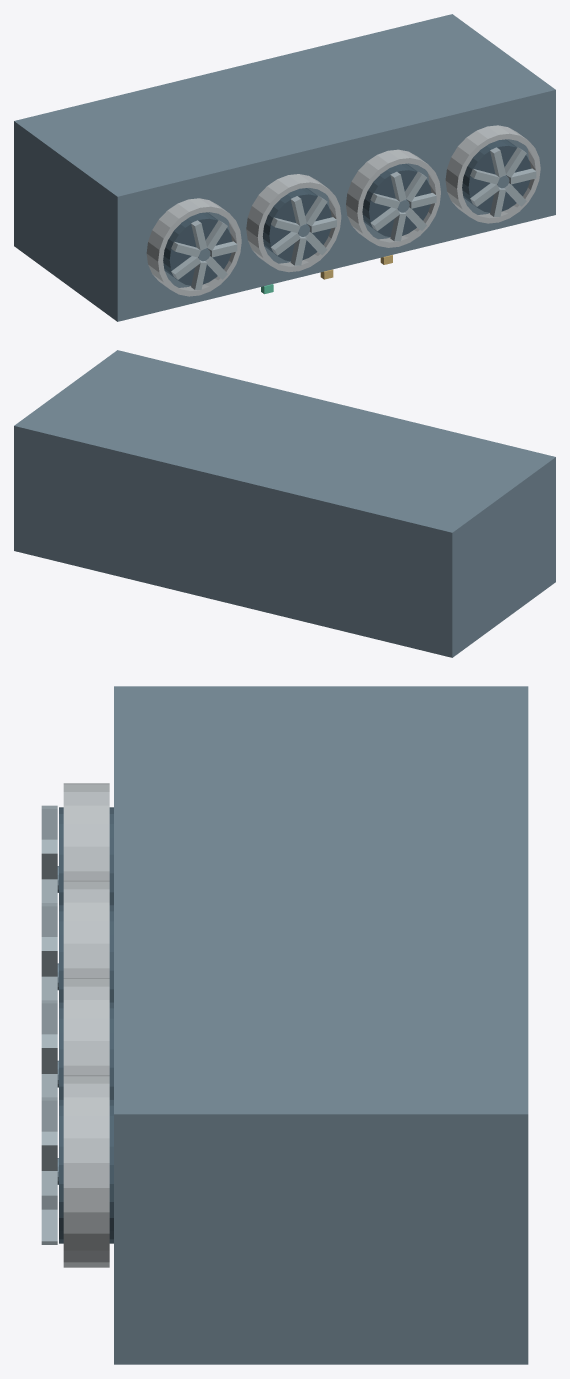
Rendered from 59_L80_PhotonicCoolingAirManifold.glb.
The picture shows the model from 3 angles, top to bottom: view 1: azimuth 30°, elevation 25°; view 2: azimuth 150°, elevation 25°; view 3: azimuth 270°, elevation 25°; orthographic projection. The views are drawn at different scales.
Visible parts, largest first — view 1: PhotonicCoolingAirManifold_Node_0000, PhotonicCoolingAirManifold_Node_0012, PhotonicCoolingAirManifold_Node_0022, PhotonicCoolingAirManifold_Node_0002, PhotonicCoolingAirManifold_Node_0032, PhotonicCoolingAirManifold_Node_0031, PhotonicCoolingAirManifold_Node_0021, PhotonicCoolingAirManifold_Node_0001, PhotonicCoolingAirManifold_Node_0011; view 2: PhotonicCoolingAirManifold_Node_0000; view 3: PhotonicCoolingAirManifold_Node_0000, PhotonicCoolingAirManifold_Node_0032, PhotonicCoolingAirManifold_Node_0002, PhotonicCoolingAirManifold_Node_0012, PhotonicCoolingAirManifold_Node_0022, PhotonicCoolingAirManifold_Node_0031, PhotonicCoolingAirManifold_Node_0001, PhotonicCoolingAirManifold_Node_0011, PhotonicCoolingAirManifold_Node_0021.
Boxes of the visible parts, x1,y1,x2,y2 form: PhotonicCoolingAirManifold_Node_0000: [14, 14, 555, 321]; PhotonicCoolingAirManifold_Node_0012: [246, 174, 341, 272]; PhotonicCoolingAirManifold_Node_0022: [346, 149, 440, 247]; PhotonicCoolingAirManifold_Node_0002: [146, 198, 241, 296]; PhotonicCoolingAirManifold_Node_0032: [445, 125, 540, 223]; PhotonicCoolingAirManifold_Node_0031: [462, 139, 530, 212]; PhotonicCoolingAirManifold_Node_0021: [362, 163, 431, 236]; PhotonicCoolingAirManifold_Node_0001: [163, 212, 231, 285]; PhotonicCoolingAirManifold_Node_0011: [262, 188, 331, 261]; PhotonicCoolingAirManifold_Node_0000: [14, 350, 555, 657]; PhotonicCoolingAirManifold_Node_0000: [114, 686, 528, 1364]; PhotonicCoolingAirManifold_Node_0032: [63, 1075, 109, 1267]; PhotonicCoolingAirManifold_Node_0002: [63, 783, 109, 880]; PhotonicCoolingAirManifold_Node_0012: [63, 880, 109, 977]; PhotonicCoolingAirManifold_Node_0022: [63, 978, 109, 1074]; PhotonicCoolingAirManifold_Node_0031: [59, 1099, 113, 1243]; PhotonicCoolingAirManifold_Node_0001: [59, 807, 113, 904]; PhotonicCoolingAirManifold_Node_0011: [59, 904, 113, 1001]; PhotonicCoolingAirManifold_Node_0021: [59, 1002, 113, 1099].
Size of the model in its own units: 2.2 by 0.658 by 1.06.
